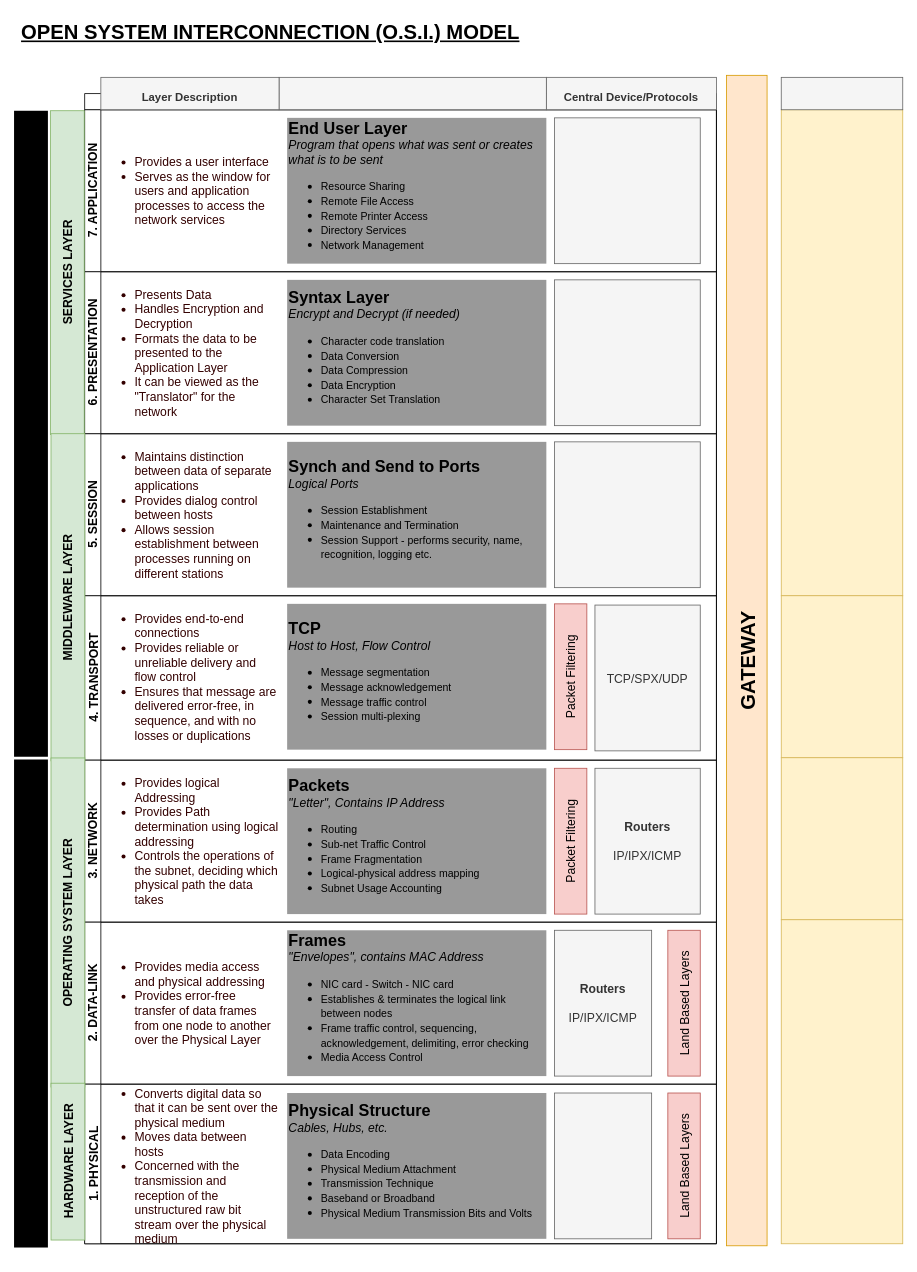
The diagram is 917 pixels wide and 1272 high, and some of its shapes have lost their labels. Each missing label, with the centre of its shape:
"Application/Example" belongs at (412,93).
"DOD4 MODEL" belongs at (841,93).
"HOST LAYERS" belongs at (31,433).
"Host to Host" belongs at (841,676).
"Hub" belongs at (603,1165).
"Internet" belongs at (841,838).
"JPEG, ASCII, EBDIC, TIFF, GIF, PICT" belongs at (627,352).
"Logical Ports RPC/SQL/NFS NetBIOS names" belongs at (627,514).
"MEDIA LAYERS" belongs at (30,1003).
"Network" belongs at (841,1081).
"Process" belongs at (841,352).
"User Applications SMTP" belongs at (627,190).
